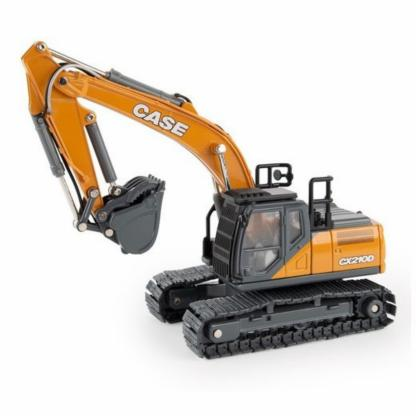excavator: (10, 27, 402, 360)
